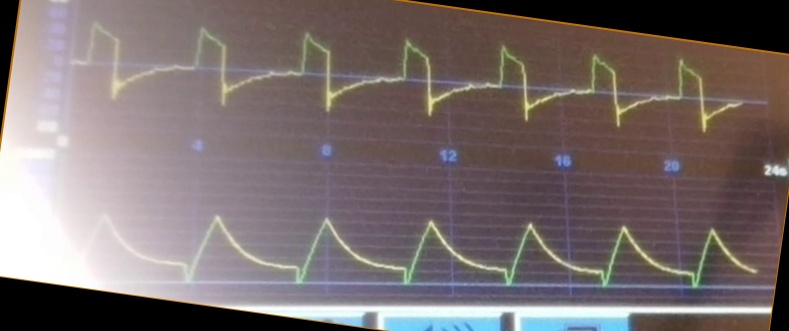Flow: (72, 26, 732, 131)
Leakage Volume: (83, 212, 755, 294)
